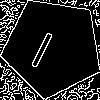I: (27, 22, 61, 69)
